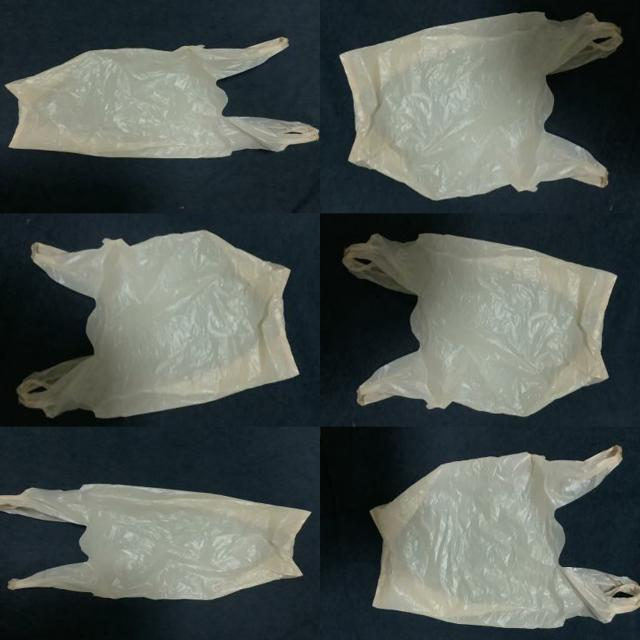Single-layer Plastic: (340, 12, 622, 200), (18, 231, 298, 418), (343, 234, 615, 416), (372, 446, 640, 628), (6, 38, 319, 158), (0, 484, 310, 600)
